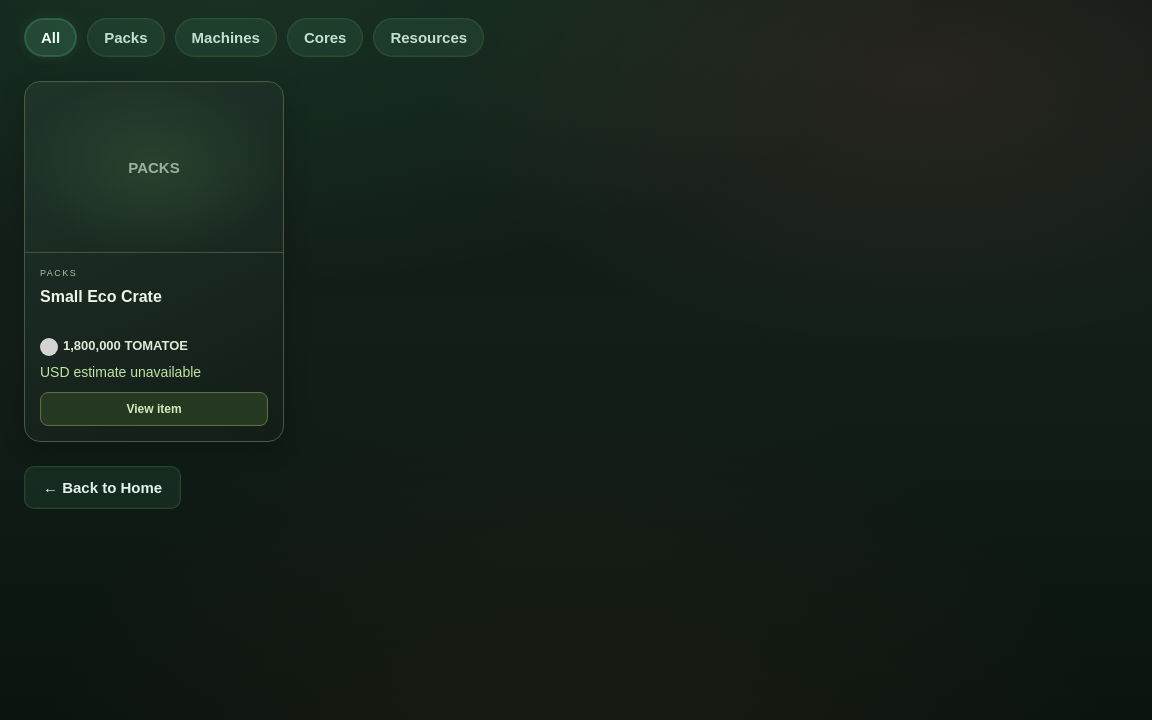
Test case: exploring contents loads the real drop rows without buying
Click the button "View item" at (154, 409), box x1=40 y1=392 x2=268 y2=426
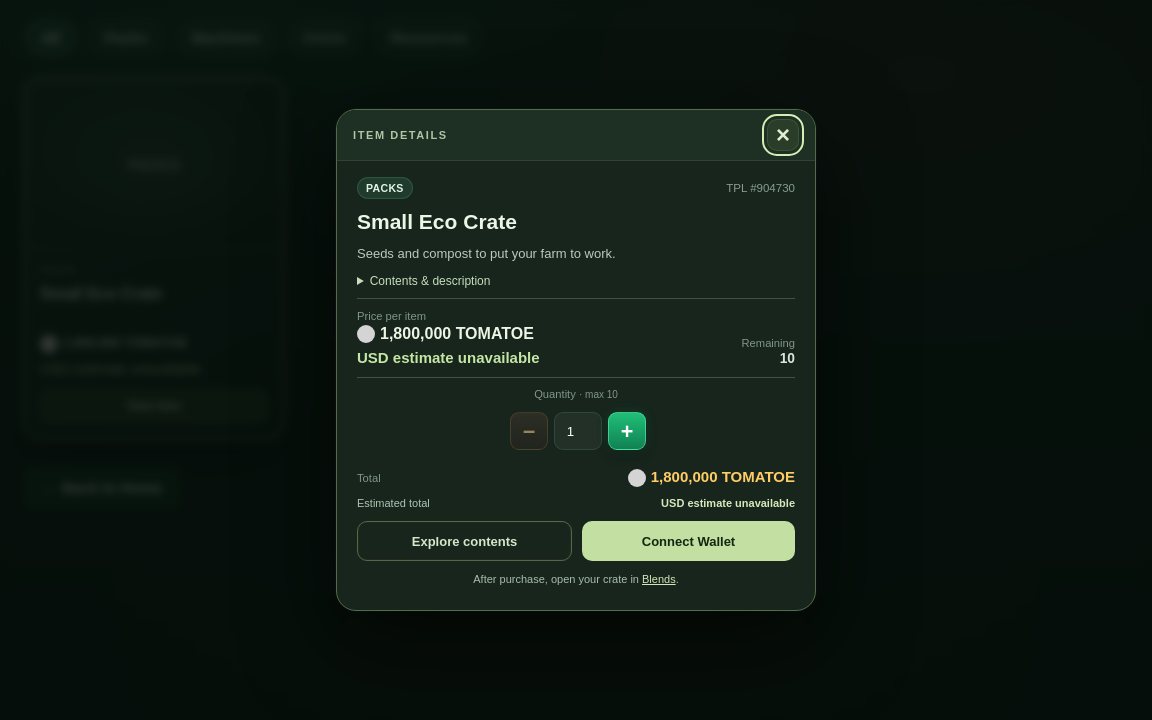
Click the button "Explore contents" at (464, 541), box x1=357 y1=521 x2=572 y2=561
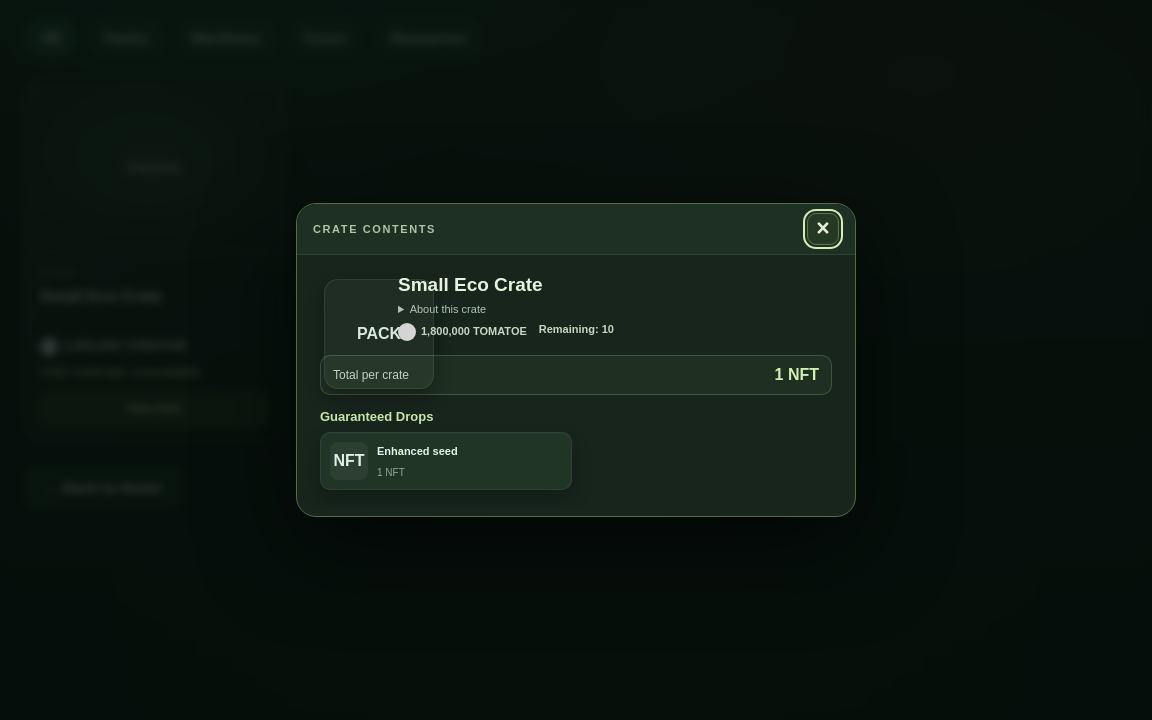
Check: the text "Enhanced seed" is shown, box x1=377 y1=445 x2=458 y2=457
Check: the heading "Guaranteed Drops" is shown, box x1=320 y1=409 x2=433 y2=424
